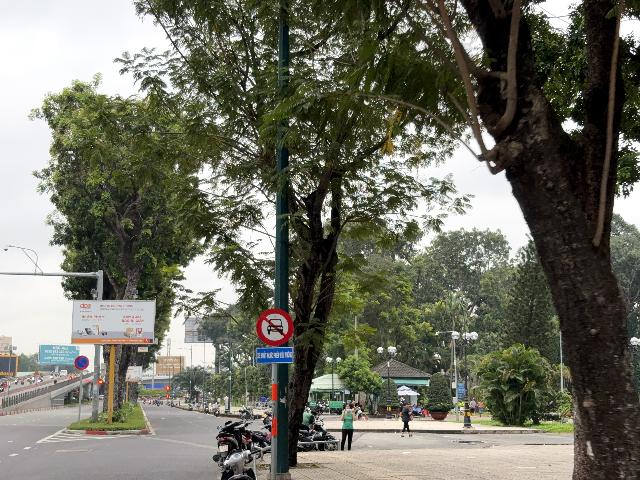cam-o-to: (257, 309, 294, 346)
